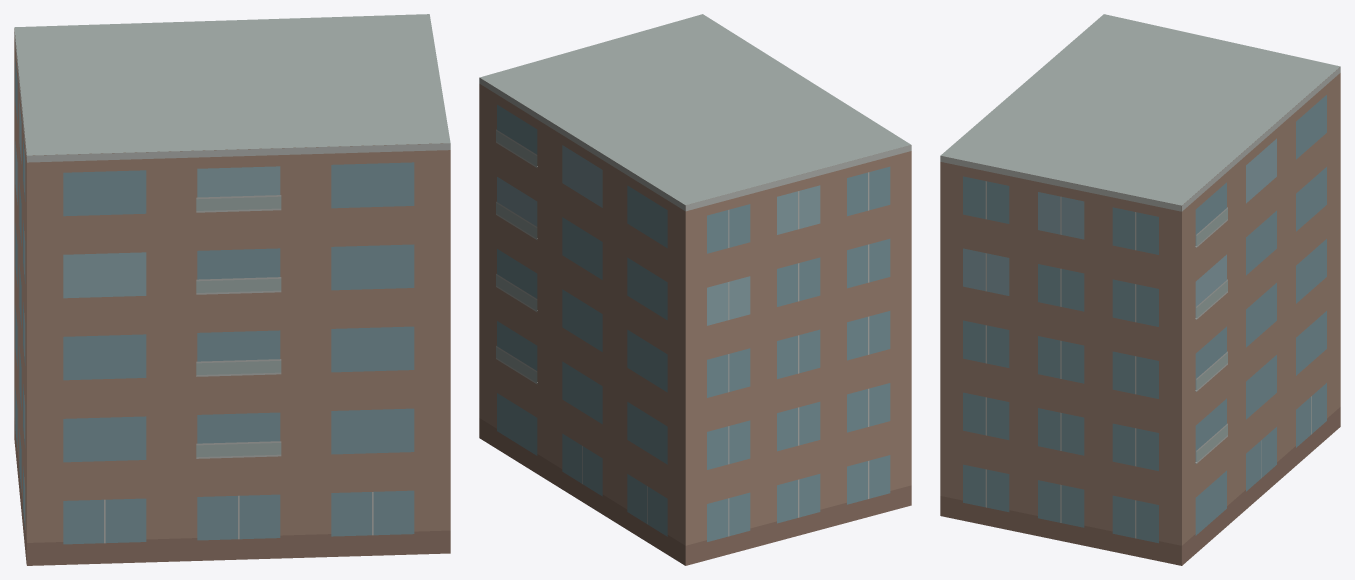
File: survey-upis-32884379.glb
3 renders of one model, left to right at view 1: azimuth 30°, elevation 25°; view 2: azimuth 150°, elevation 25°; view 3: azimuth 270°, elevation 25°, orthographic. The views are drawn at different scales.
Parts seen in each view (by area): view 1: survey-upis-32884379.tmp; view 2: survey-upis-32884379.tmp; view 3: survey-upis-32884379.tmp.
Boxes of the visible parts, <box> form: survey-upis-32884379.tmp: <box>14,14,450,565</box>; survey-upis-32884379.tmp: <box>479,14,911,565</box>; survey-upis-32884379.tmp: <box>940,14,1340,565</box>.
Bounding box in the file's own units: 16.49 × 14.45 × 14.56.
